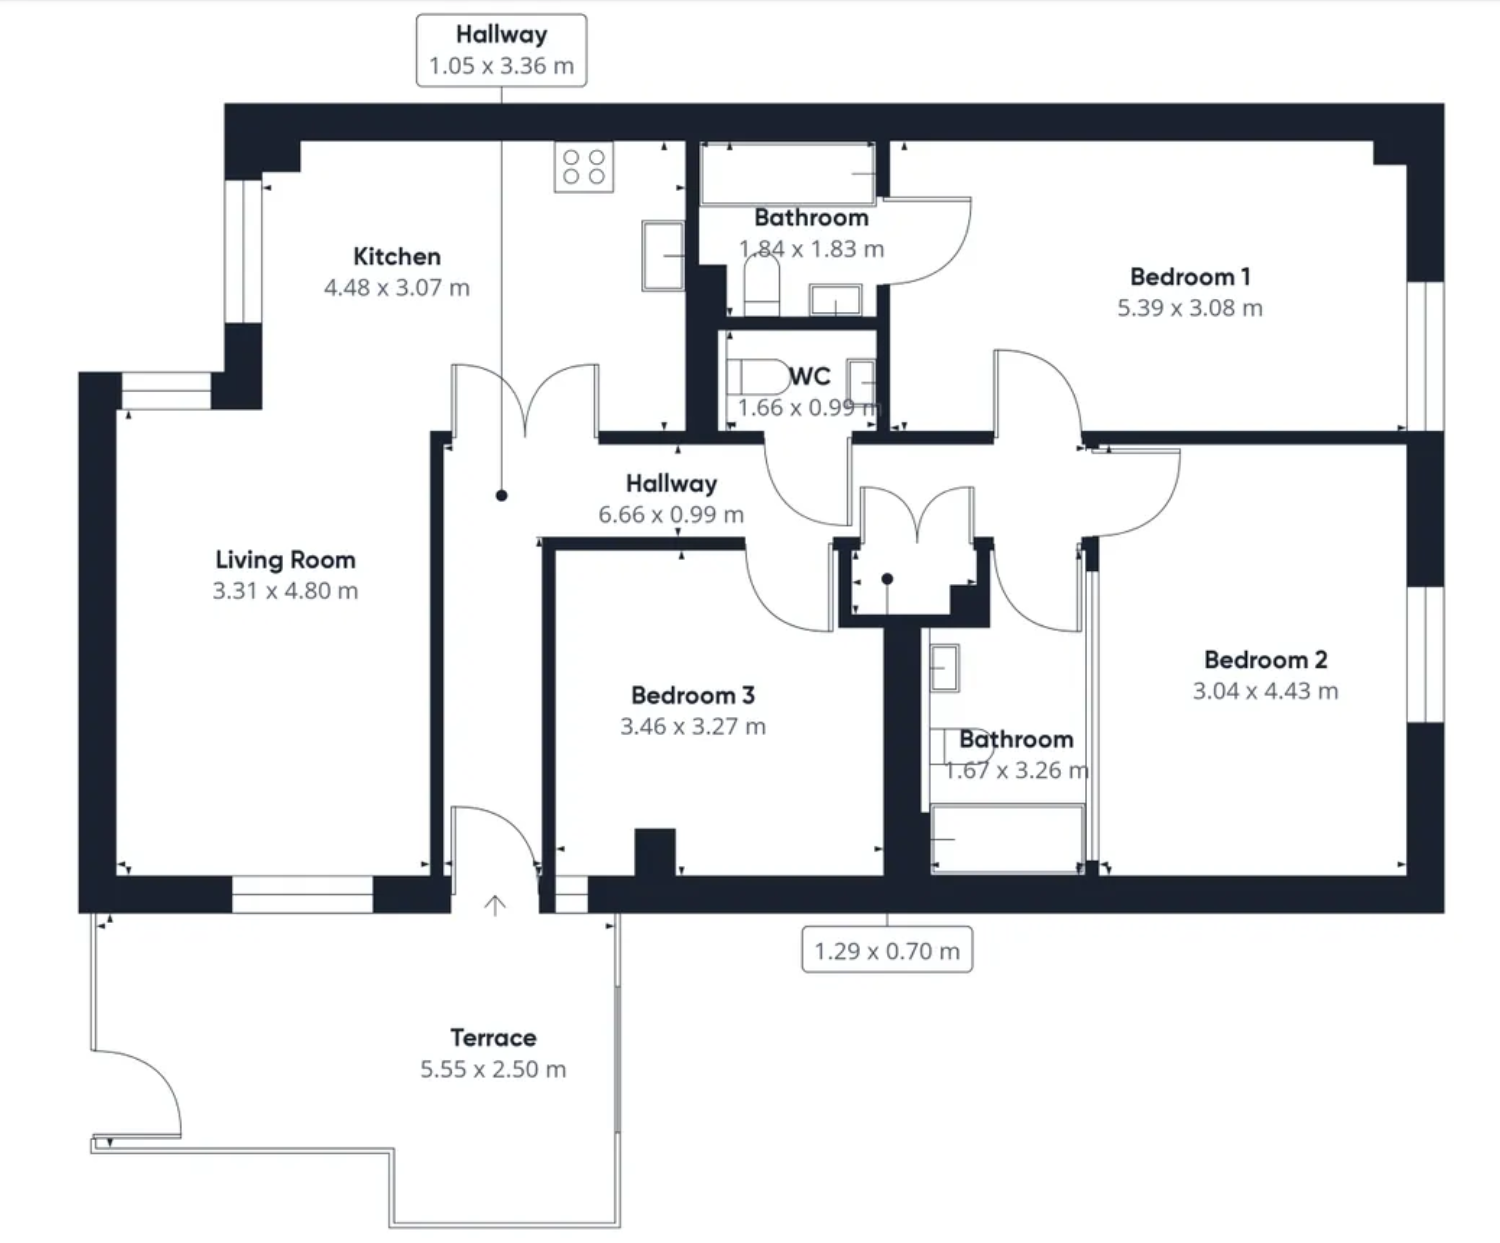basin: (804, 281, 863, 315), (931, 644, 963, 697), (843, 357, 878, 406)
door: (449, 803, 539, 915), (988, 345, 1084, 448), (990, 536, 1085, 634), (762, 428, 856, 528), (1088, 443, 1184, 539), (880, 196, 978, 286), (743, 538, 833, 635), (523, 359, 599, 443), (450, 360, 523, 442), (917, 480, 975, 551), (858, 484, 917, 547)
sink: (638, 220, 684, 294)
toilet: (724, 356, 792, 399), (743, 252, 782, 318), (926, 726, 995, 763)
window: (222, 181, 267, 323), (1405, 276, 1444, 430), (229, 873, 371, 910), (1407, 583, 1441, 724), (121, 370, 211, 411), (554, 879, 586, 910)
